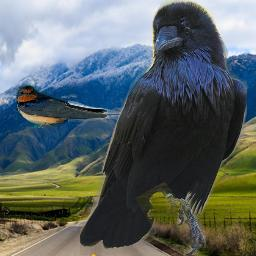Crow: (80, 0, 247, 255)
Swallow: (14, 83, 126, 128)
